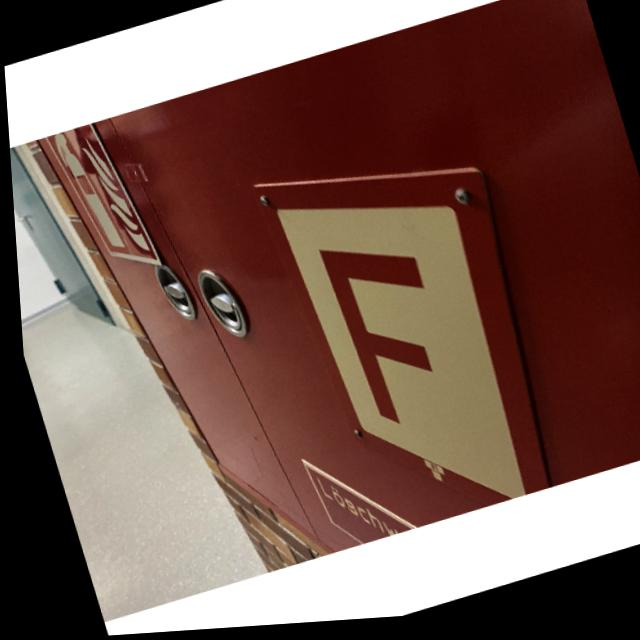fire extinguisher: (247, 123, 567, 553)
